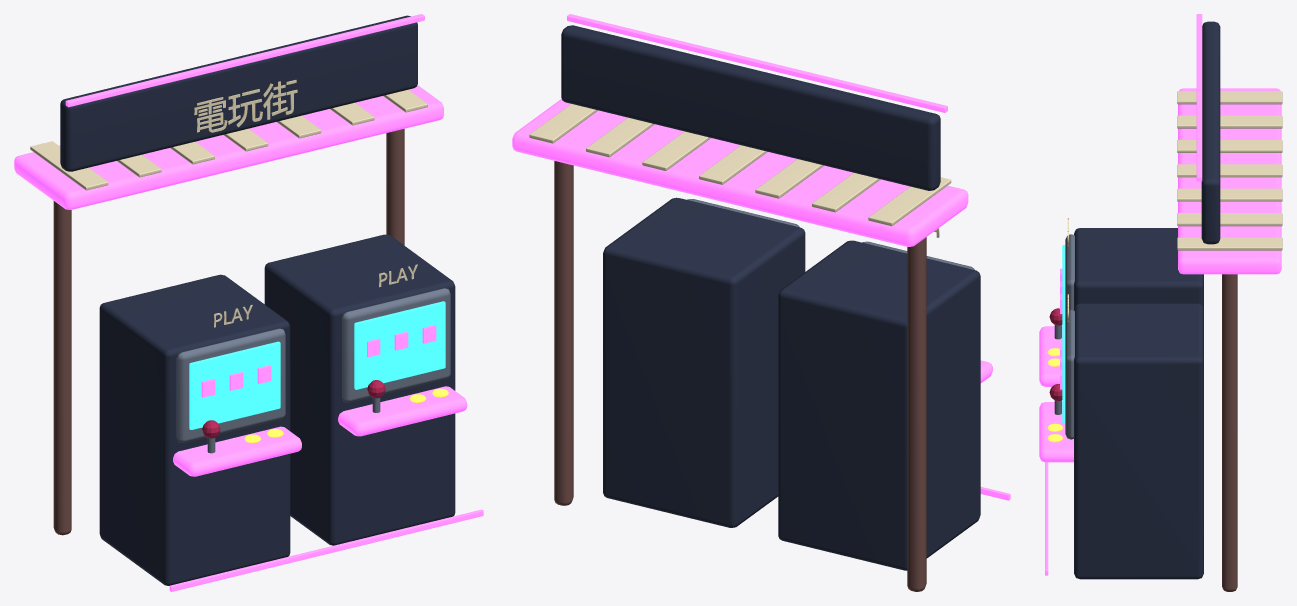
The model's file is stall_arcade.glb.
The picture shows the model from 3 angles, left to right: view 1: azimuth 30°, elevation 25°; view 2: azimuth 150°, elevation 25°; view 3: azimuth 270°, elevation 25°; orthographic projection. The views are drawn at different scales.
Parts seen in each view (by area): view 1: stall_arcade_Midnight enamel, stall_arcade_Neon violet, stall_arcade_Neon jade, stall_arcade_Warm wood, stall_arcade_Brushed metal, stall_arcade_Cream lettering; view 2: stall_arcade_Midnight enamel, stall_arcade_Neon violet, stall_arcade_Warm wood, stall_arcade_Cream lettering, stall_arcade_Brushed metal; view 3: stall_arcade_Midnight enamel, stall_arcade_Neon violet, stall_arcade_Cream lettering, stall_arcade_Warm wood, stall_arcade_Brushed metal, stall_arcade_Neon jade, stall_arcade_Neon amber, stall_arcade_Crimson jacket.
Part boxes in pixels (x1,y1,x2,y2): stall_arcade_Midnight enamel: (60, 15, 455, 585); stall_arcade_Neon violet: (14, 14, 483, 591); stall_arcade_Neon jade: (189, 301, 445, 429); stall_arcade_Warm wood: (53, 129, 404, 535); stall_arcade_Brushed metal: (176, 288, 450, 453); stall_arcade_Cream lettering: (30, 80, 427, 327); stall_arcade_Midnight enamel: (561, 25, 980, 570); stall_arcade_Neon violet: (512, 14, 1010, 500); stall_arcade_Warm wood: (554, 161, 926, 591); stall_arcade_Cream lettering: (529, 104, 951, 237); stall_arcade_Brushed metal: (687, 199, 974, 269); stall_arcade_Midnight enamel: (1074, 21, 1220, 579); stall_arcade_Neon violet: (1039, 14, 1281, 575); stall_arcade_Cream lettering: (1067, 91, 1282, 321); stall_arcade_Warm wood: (1222, 274, 1237, 591); stall_arcade_Brushed metal: (1054, 234, 1074, 439); stall_arcade_Neon jade: (1062, 245, 1065, 423); stall_arcade_Neon amber: (1047, 348, 1062, 442); stall_arcade_Crimson jacket: (1049, 308, 1062, 401).
Bounding box in the file's own units: 2.85 × 3.21 × 1.68.
